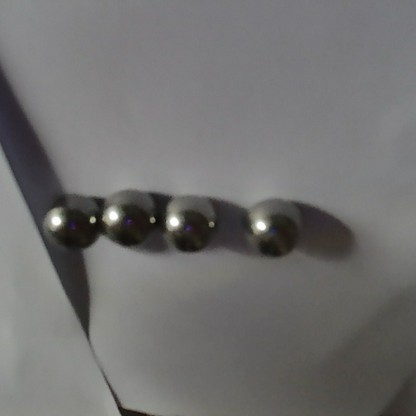ironball: (246, 197, 302, 256), (43, 193, 100, 248), (102, 186, 156, 244), (166, 193, 215, 252)
